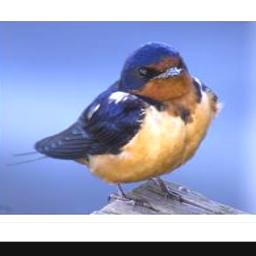Swallow: (5, 39, 226, 212)
